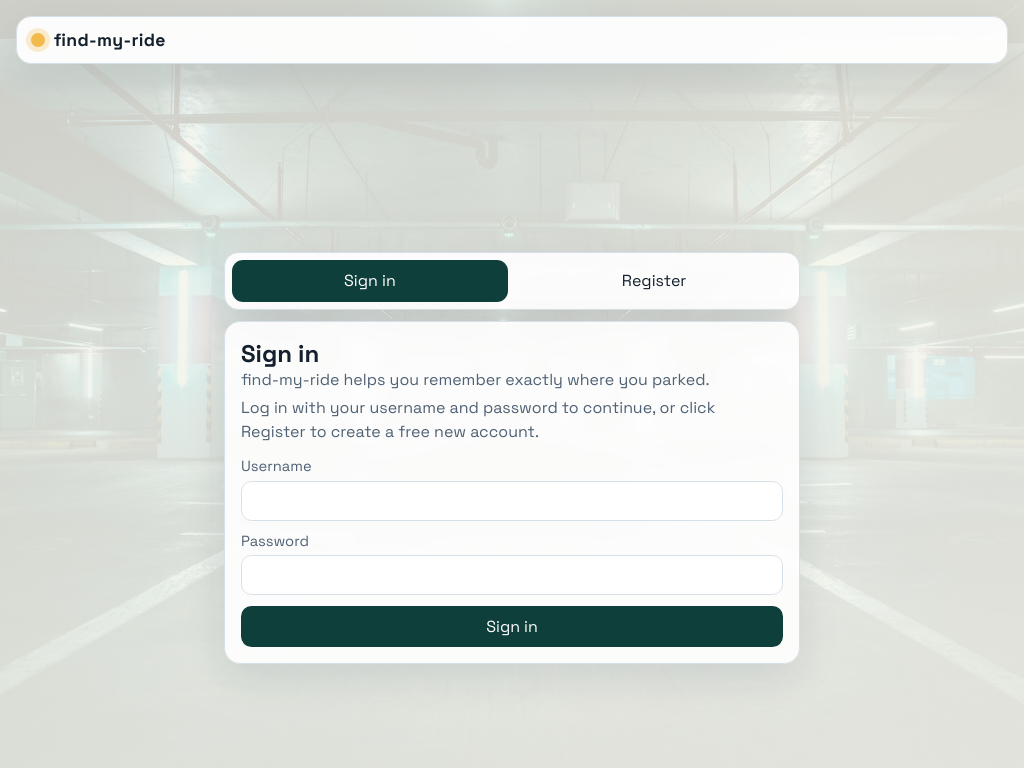
App tabs and settings › prompts for OTP in a second modal when MFA is enabled for login
Expected: the element "Sign in" is shown, [224,321,800,664]
Type "driver" into the field labelled "Username".
click(512, 501); type("driver")  # box [241,481,783,521]
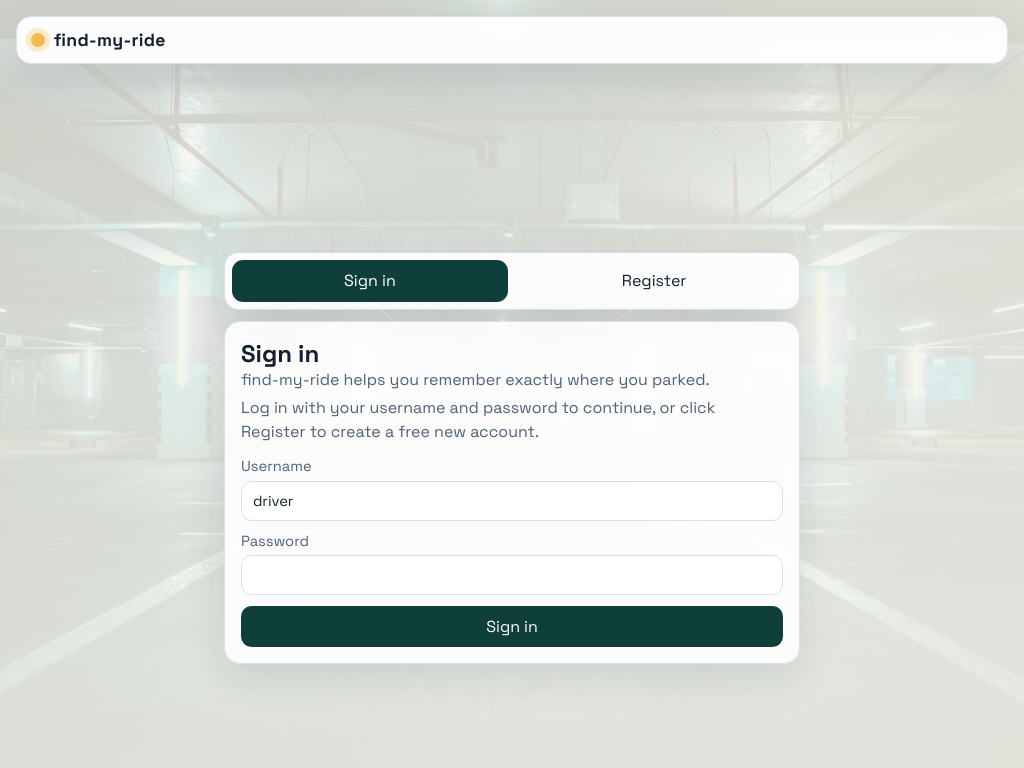
Type "DriverPass123" into the password field labelled "Password".
click(512, 575); type("DriverPass123")  # box [241,555,783,595]
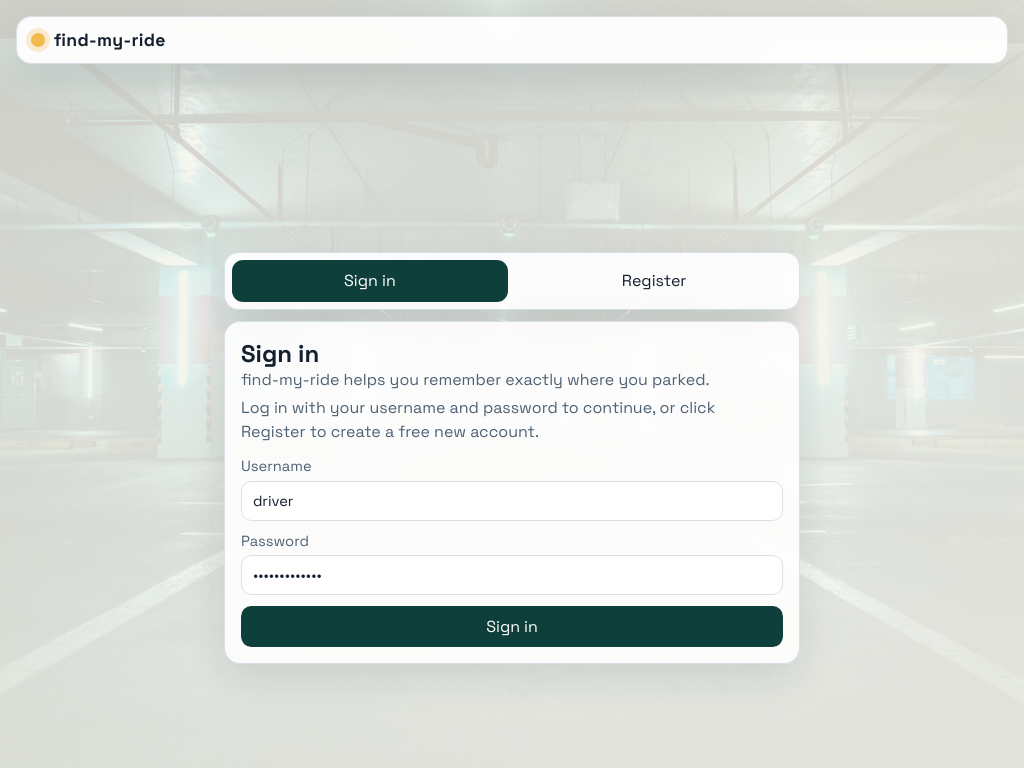
Click the 2nd button "Sign in".
click(512, 627)  # box [241,606,783,647]
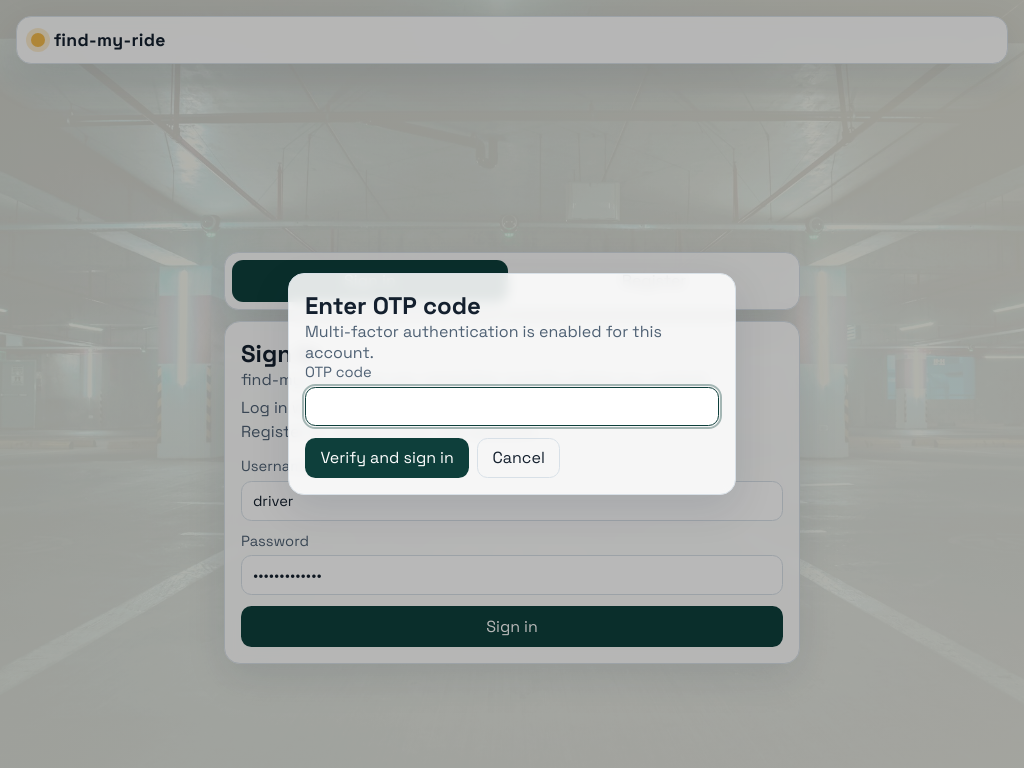
Type "123456" into the field labelled "OTP code".
click(512, 406); type("123456")  # box [305,386,719,426]
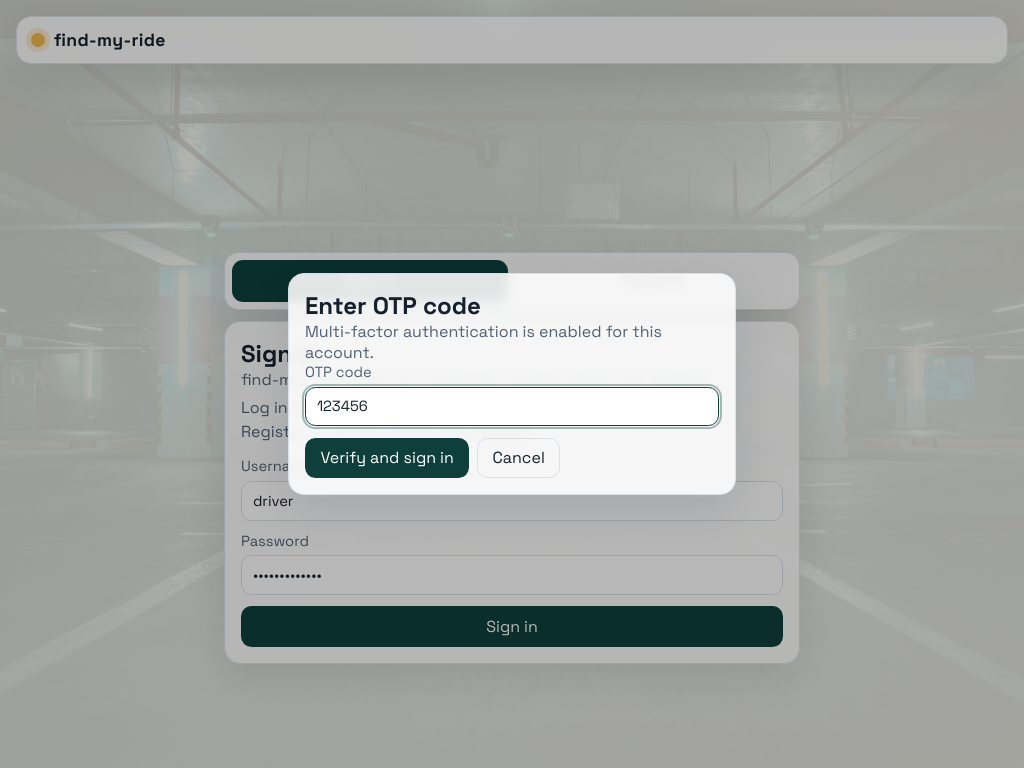
Click the button "Verify and sign in".
click(387, 458)  # box [305,438,469,478]
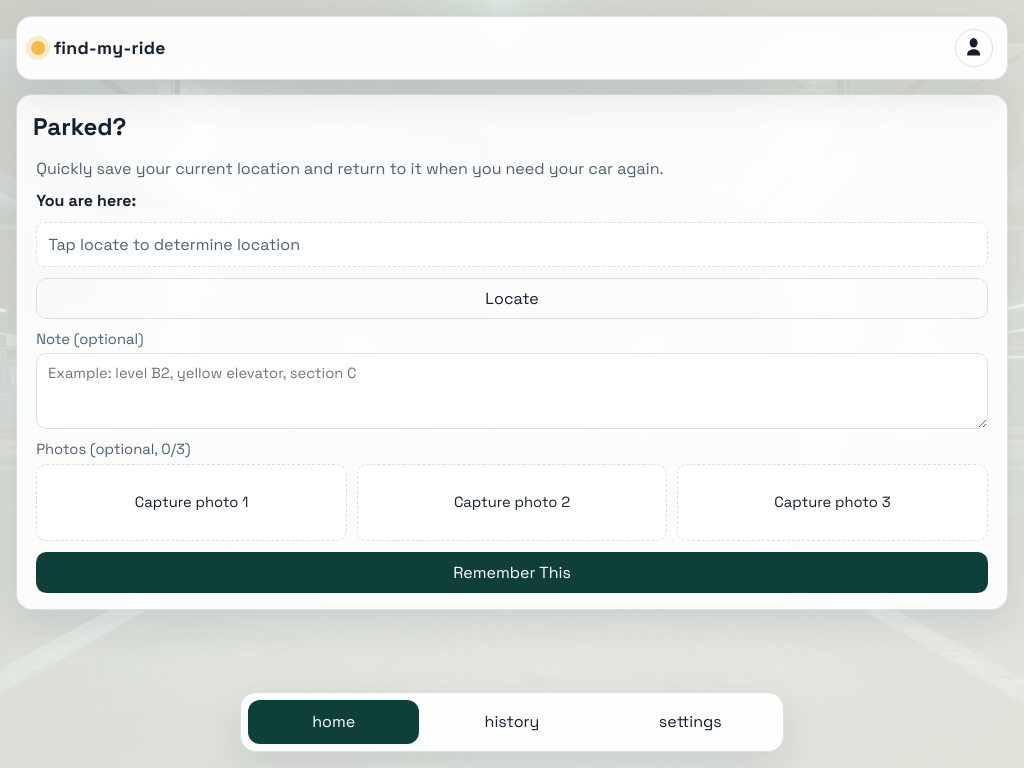
Now the heading "Parked?" is shown, box [33,111,126,142]
